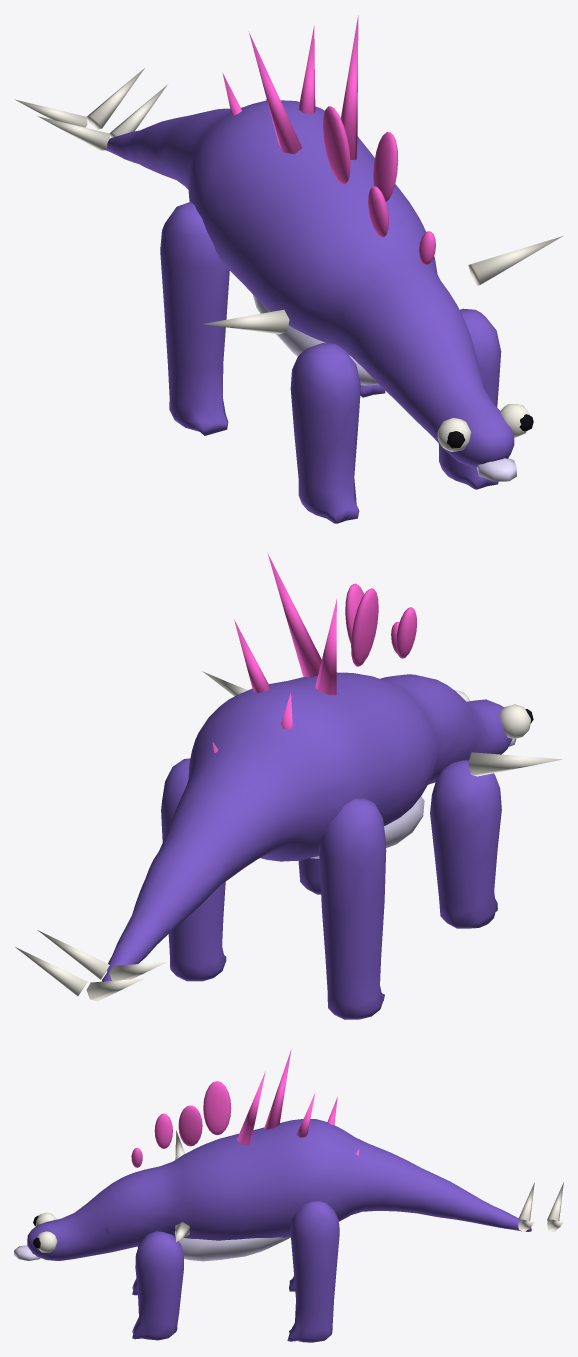
The model's file is Dino_Kentrosaurus.fbx.
3 views of the same model, one above another, from view 1: azimuth 30°, elevation 25°; view 2: azimuth 150°, elevation 25°; view 3: azimuth 270°, elevation 25° (orthographic). The views are drawn at different scales.
Parts seen in each view (by area): view 1: Body, LegBL, LegFL, Accent, EyeWhite, LegFR, Belly; view 2: Body, LegBL, LegFL, Accent, EyeWhite, LegBR, Belly, LegFR; view 3: Body, LegBR, LegFR, Accent, Belly, EyeWhite.
Boxes of the visible parts, x1,y1,x2,y2 form: Body: [105, 100, 514, 467]; LegBL: [160, 201, 229, 435]; LegFL: [290, 343, 360, 523]; Accent: [222, 15, 435, 264]; EyeWhite: [15, 68, 562, 451]; LegFR: [438, 308, 501, 489]; Belly: [253, 295, 516, 481]; Body: [102, 672, 512, 981]; LegBL: [319, 798, 386, 1019]; LegFL: [430, 760, 501, 928]; Accent: [212, 553, 416, 752]; EyeWhite: [15, 671, 562, 1001]; LegBR: [161, 758, 226, 981]; Belly: [311, 739, 516, 858]; LegFR: [298, 858, 320, 894]; Body: [27, 1119, 531, 1260]; LegBR: [287, 1201, 339, 1342]; LegFR: [132, 1231, 183, 1340]; Accent: [131, 1049, 359, 1167]; Belly: [14, 1237, 290, 1261]; EyeWhite: [36, 1130, 563, 1252].
Size of the model in its own units: 4.13 by 4.43 by 8.5.
